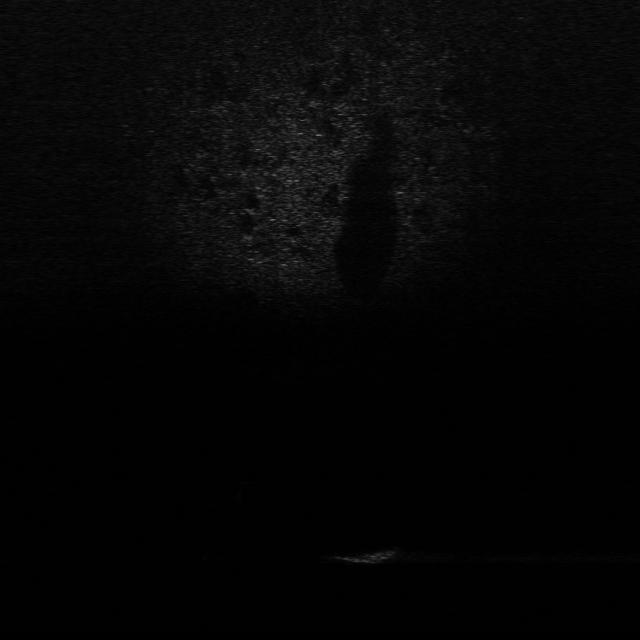metal bucket: (332, 536, 403, 568)
